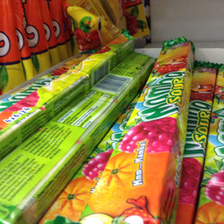candy: (16, 45, 151, 224), (104, 40, 194, 224), (173, 55, 224, 217)
